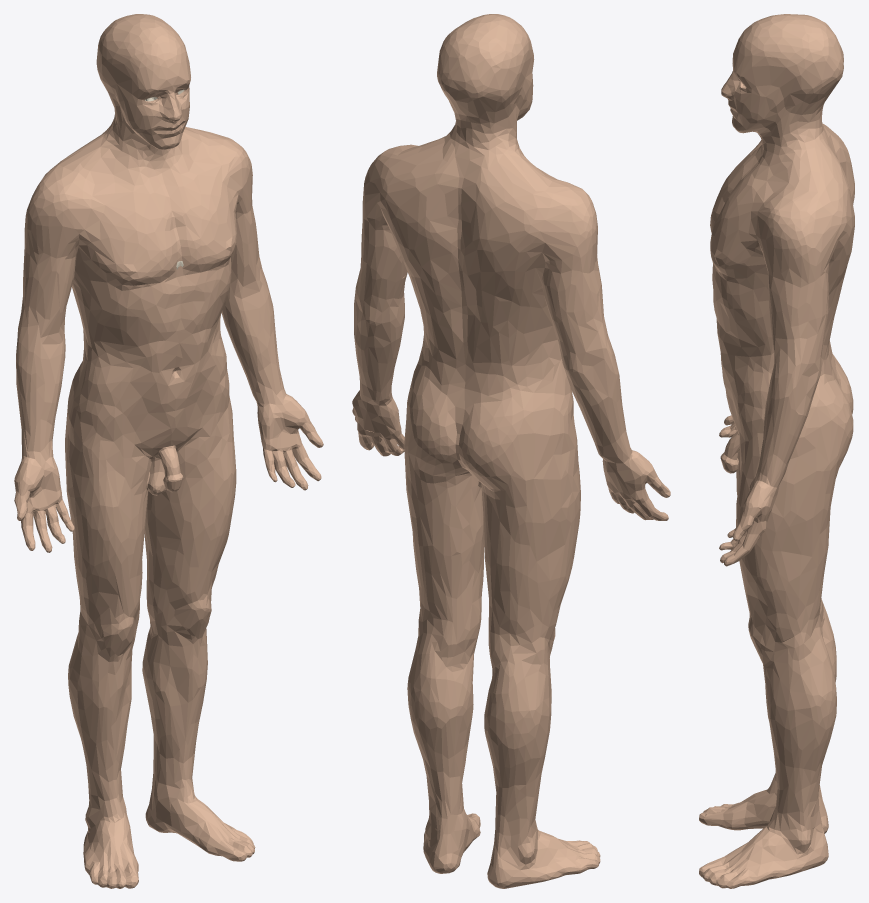
File: body.glb
3 renders of one model, left to right at view 1: azimuth 30°, elevation 25°; view 2: azimuth 150°, elevation 25°; view 3: azimuth 270°, elevation 25°, orthographic. The views are drawn at different scales.
Parts seen in each view (by area): view 1: skin; view 2: skin; view 3: skin.
Boxes of the visible parts, left/top/right/bottom form: skin: left=14, top=14, right=323, bottom=888; skin: left=352, top=14, right=670, bottom=888; skin: left=699, top=14, right=854, bottom=888.
Size of the model in its own units: 0.6673 by 1.72 by 0.2916.
